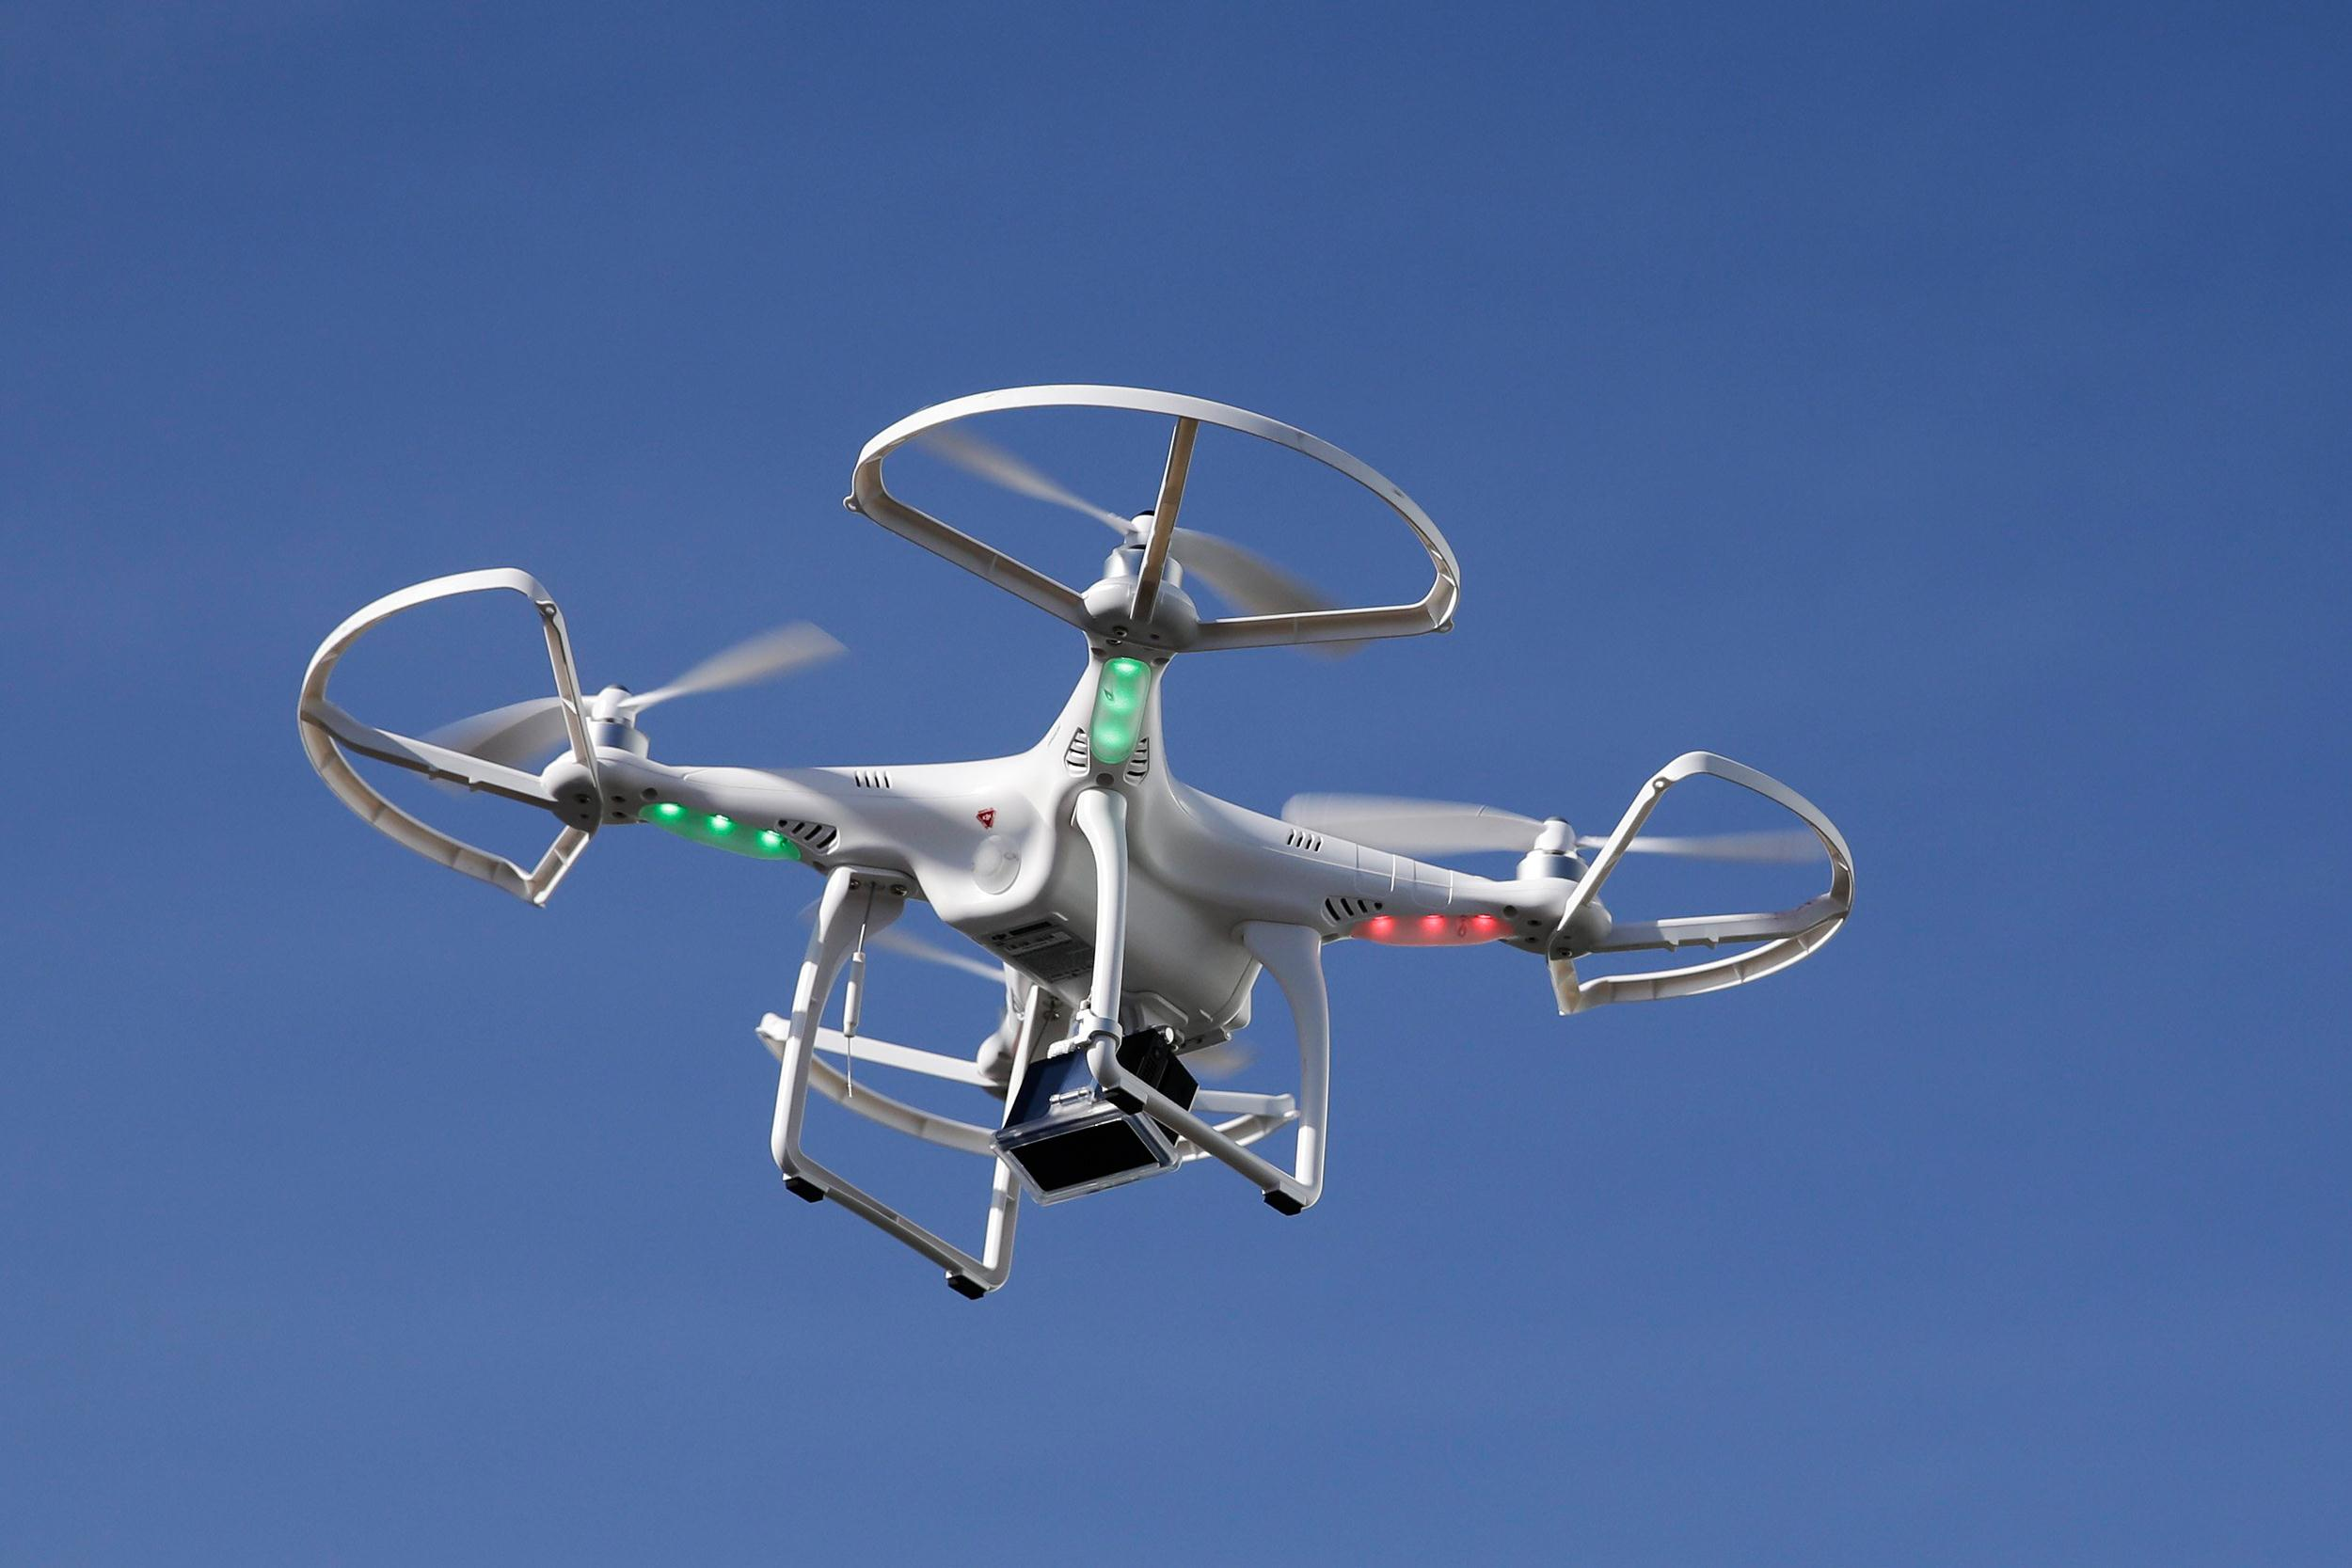drone: (290, 374, 1865, 1307)
